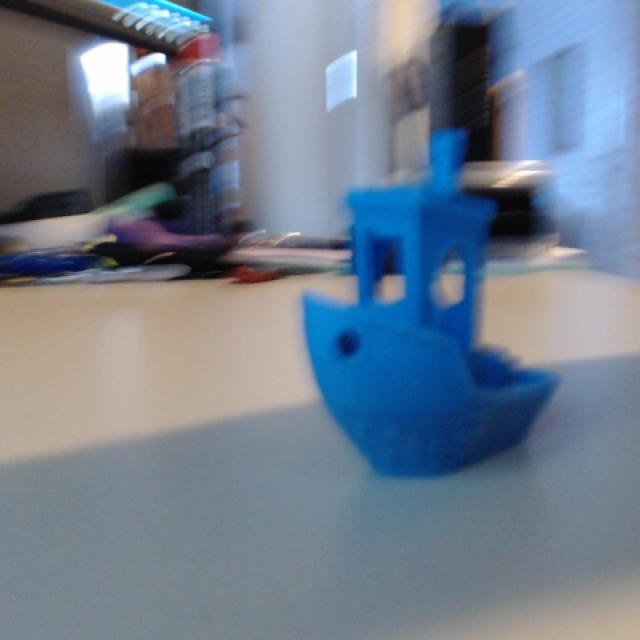benchy: (298, 123, 563, 480)
